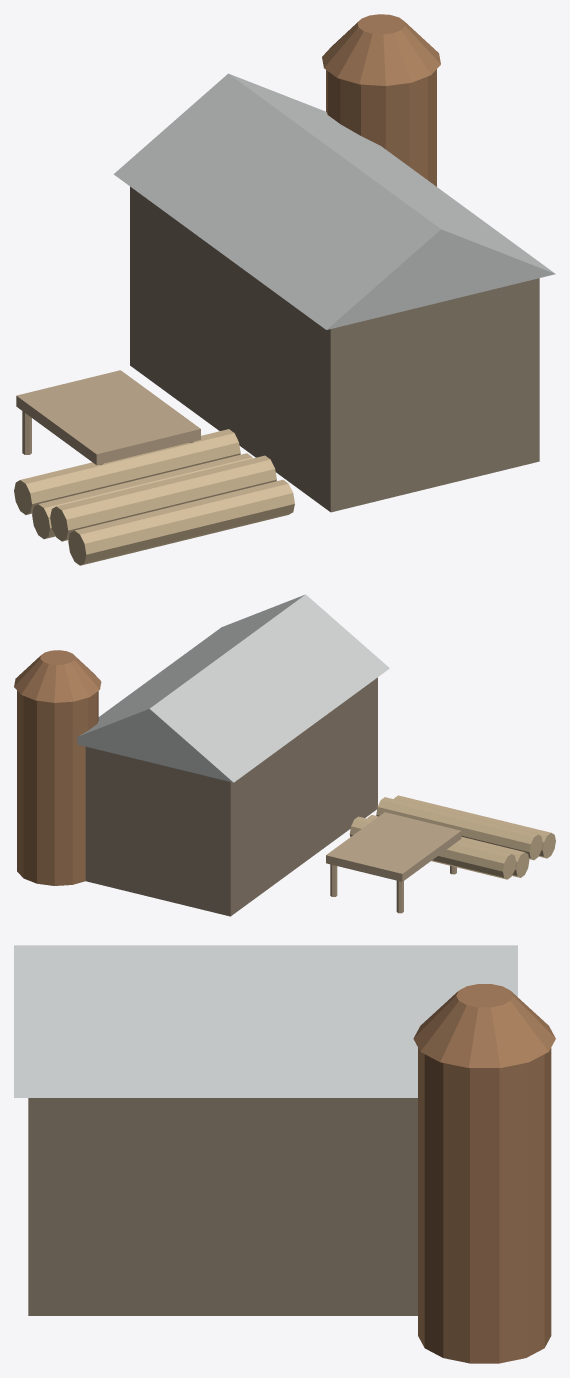
The model's file is Sawmill.glb.
3 views of the same model, one above another, from view 1: azimuth 30°, elevation 25°; view 2: azimuth 150°, elevation 25°; view 3: azimuth 270°, elevation 25° (orthographic). The views are drawn at different scales.
Visible parts, largest first — view 1: Mill shed, Mill roof, Saw floor, Log deck, Burner, Log deck.001, Log deck.003, Burner cap, Log deck.002; view 2: Mill shed, Mill roof, Burner, Saw floor, Burner cap, Log deck.001, Log deck.003, Log deck, Log deck.002; view 3: Mill shed, Mill roof, Burner, Burner cap.
Part boxes in pixels (bbox=[...]): Mill shed: bbox=[130, 186, 539, 512]; Mill roof: bbox=[113, 73, 555, 329]; Saw floor: bbox=[16, 370, 200, 465]; Log deck: bbox=[68, 479, 294, 565]; Burner: bbox=[326, 69, 436, 186]; Log deck.001: bbox=[50, 455, 276, 541]; Log deck.003: bbox=[14, 429, 240, 514]; Burner cap: bbox=[322, 14, 440, 85]; Log deck.002: bbox=[32, 453, 252, 539]; Mill shed: bbox=[85, 677, 377, 916]; Mill roof: bbox=[77, 594, 389, 782]; Burner: bbox=[17, 691, 98, 885]; Saw floor: bbox=[326, 812, 461, 881]; Burner cap: bbox=[14, 650, 101, 702]; Log deck.001: bbox=[376, 797, 542, 860]; Log deck.003: bbox=[349, 816, 515, 879]; Log deck: bbox=[394, 795, 555, 858]; Log deck.002: bbox=[367, 815, 529, 877]; Mill shed: bbox=[28, 1098, 417, 1315]; Mill roof: bbox=[14, 945, 517, 1097]; Burner: bbox=[418, 1048, 551, 1363]; Burner cap: bbox=[413, 984, 555, 1067].
Size of the model in its own units: 15.46 by 7.9 by 11.4.
